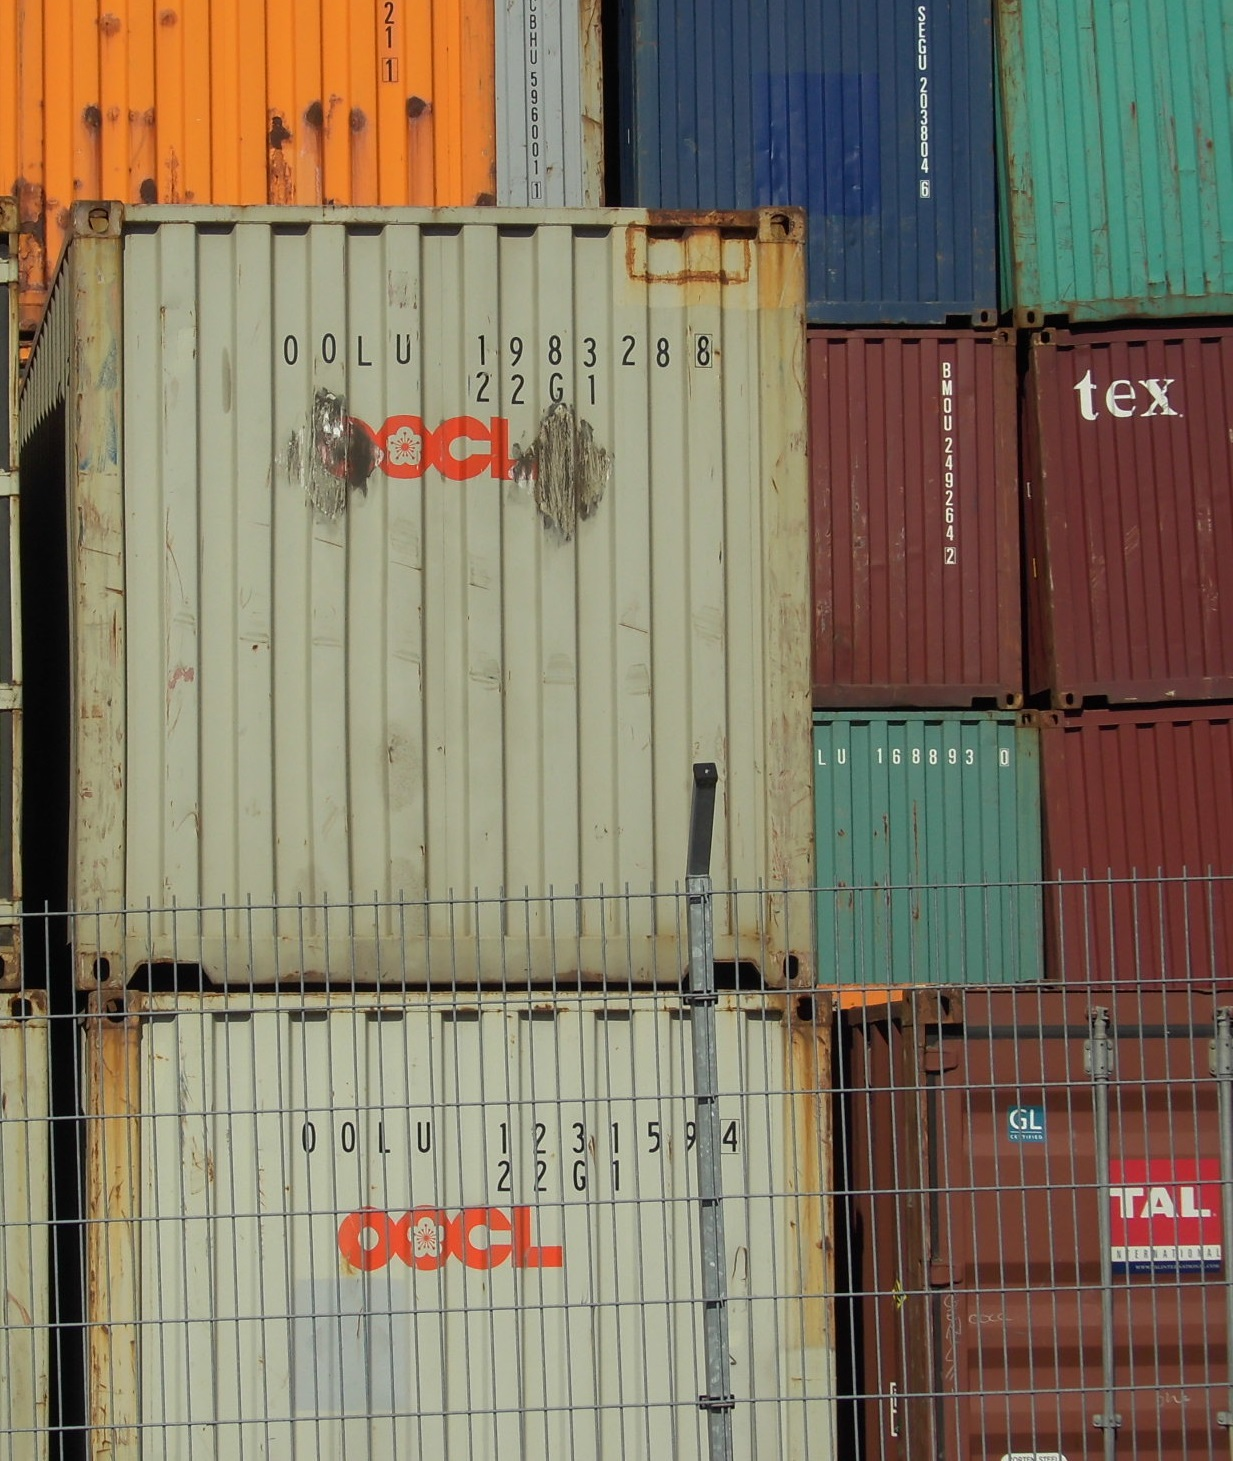container_no_door: (76, 212, 807, 987), (91, 989, 831, 1460), (632, 1, 1010, 322), (1, 1, 502, 212), (813, 327, 1018, 704), (1032, 327, 1233, 708), (1010, 1, 1233, 318), (813, 712, 1037, 994), (1043, 708, 1232, 991)
